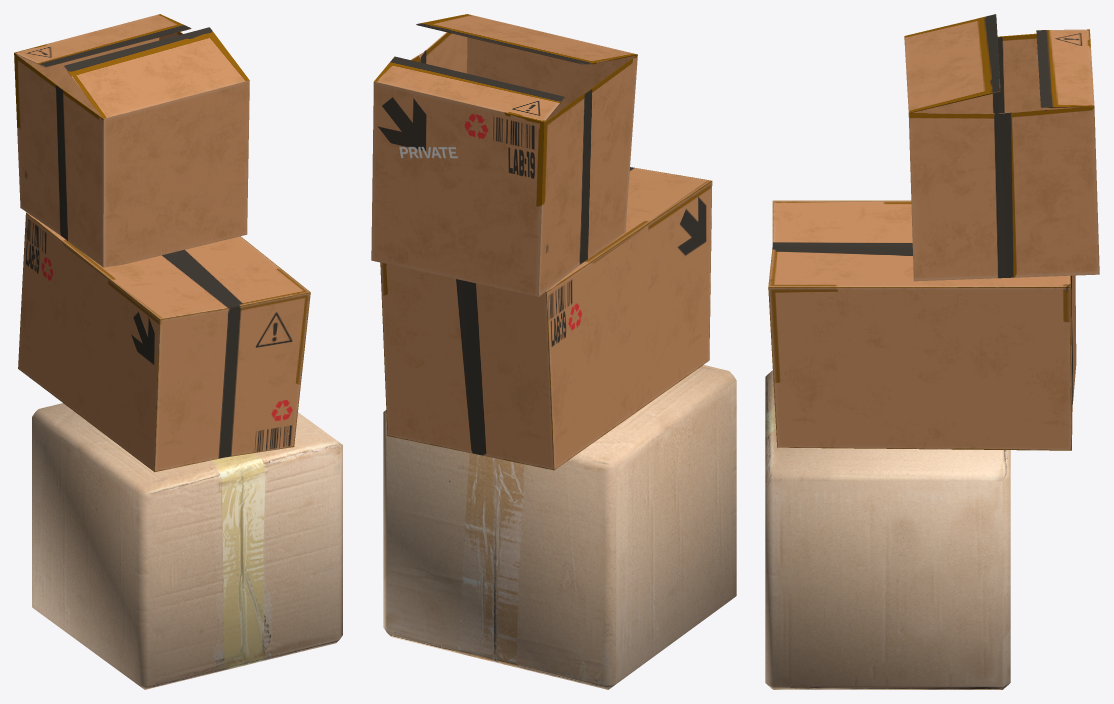
Rendered from boxes.gltf.
3 views of the same model, side by side, from view 1: azimuth 30°, elevation 25°; view 2: azimuth 150°, elevation 25°; view 3: azimuth 270°, elevation 25° (orthographic). The views are drawn at different scales.
Parts seen in each view (by area): view 1: Box, Box.03, Box.01_Box 1_0; view 2: Box, Box.01_Box 1_0, Box.03; view 3: Box.03, Box, Box.01_Box 1_0.
Boxes of the visible parts, x1,y1,x2,y2 form: Box: (32,403,342,689); Box.03: (18,212,310,472); Box.01_Box 1_0: (14,14,249,267); Box: (383,365,736,689); Box.01_Box 1_0: (371,14,637,296); Box.03: (380,167,712,470); Box.03: (768,200,1076,450); Box: (765,370,1010,689); Box.01_Box 1_0: (904,14,1099,281).
Bounding box in the file's own units: 0.8915 × 2.26 × 1.17.
3 materials, 3 textured.
